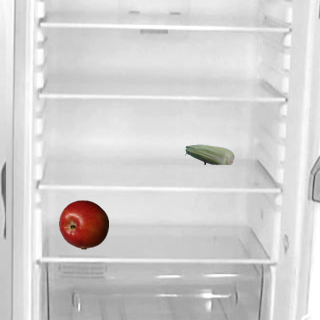Apple Braeburn: (58, 199, 108, 249)
Corn Husk: (184, 129, 234, 179)
